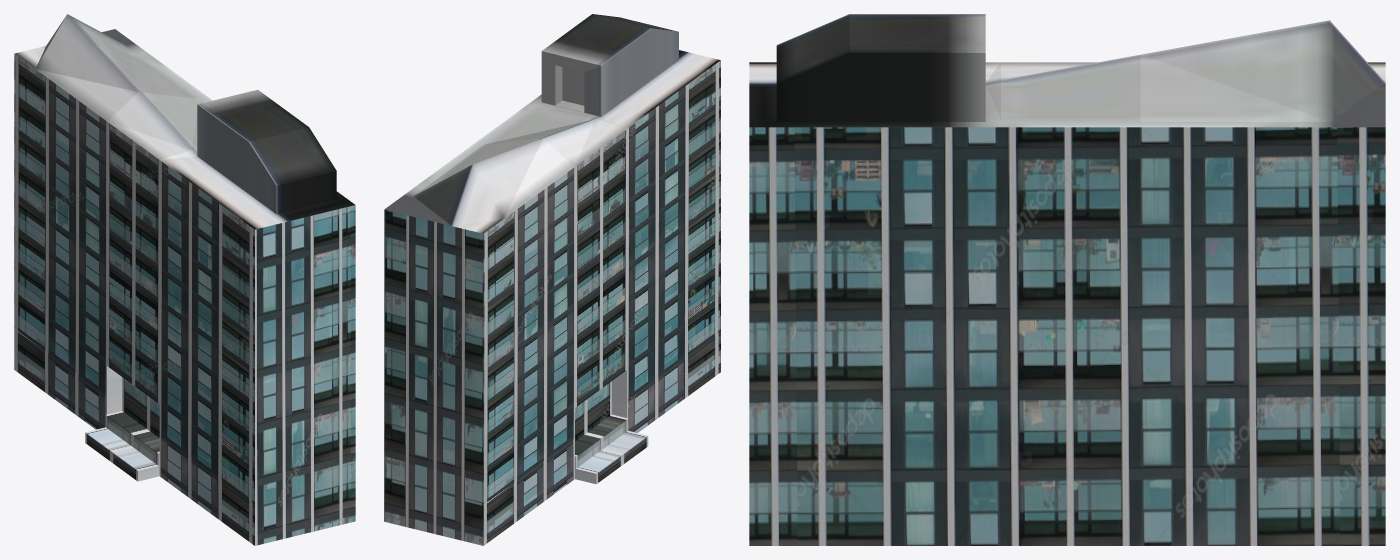
Rendered from city4.fbx.
The picture shows the model from 3 angles, left to right: view 1: azimuth 30°, elevation 25°; view 2: azimuth 150°, elevation 25°; view 3: azimuth 270°, elevation 25°; orthographic projection. The views are drawn at different scales.
Visible parts, largest first — view 1: Cubo; view 2: Cubo; view 3: Cubo.
Part boxes in pixels (box(x1,y1,x2,y2)): Cubo: box(14, 14, 355, 545); Cubo: box(384, 14, 720, 545); Cubo: box(749, 14, 1385, 545).
Bounding box in the file's own units: 243 × 699 × 827.
Materials: 1 (1 with a texture image).
